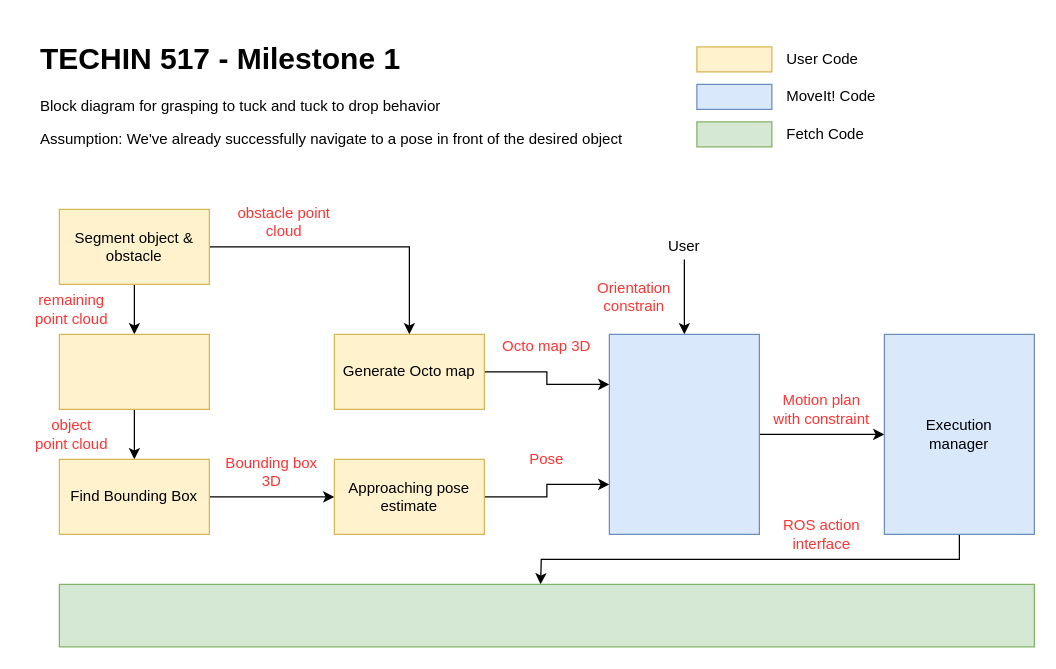
The diagram is 1056 pixels wide and 669 high, and some of its shapes have lost their labels. Each missing label, with the box of its shape:
Clustering: (58, 333, 209, 409)
Motion planner (OMPL Library): (608, 333, 759, 534)
Robot joint controller: (58, 583, 1034, 647)
